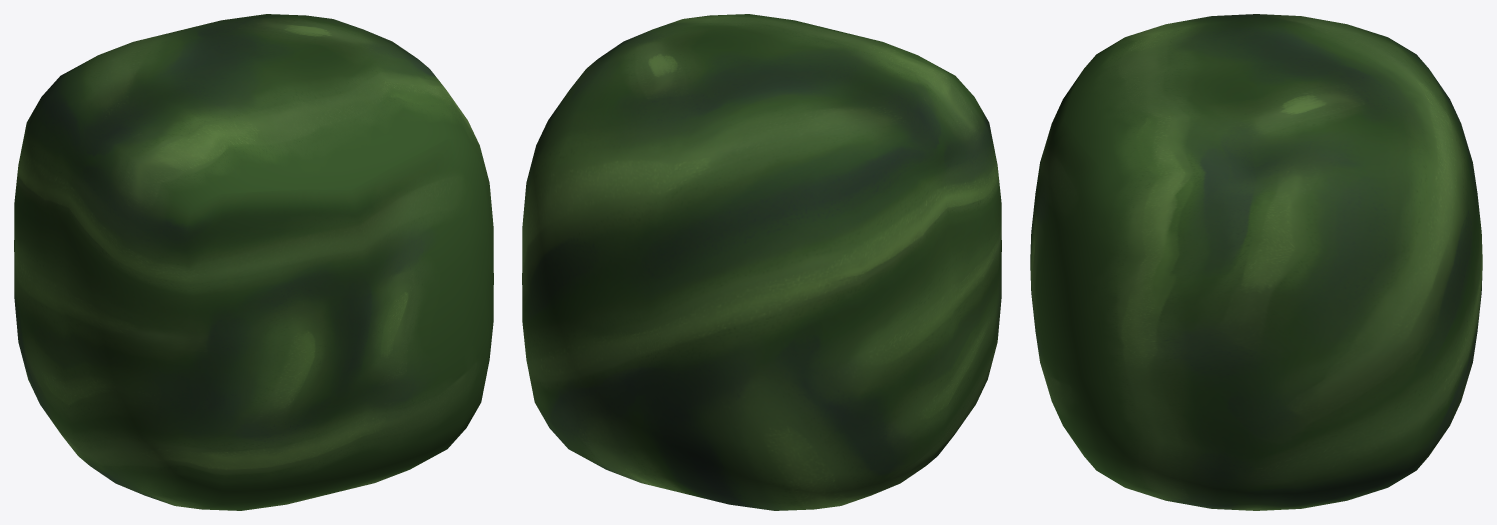
Rendered from MineBeamTie.fbx.
3 views of the same model, side by side, from view 1: azimuth 30°, elevation 25°; view 2: azimuth 150°, elevation 25°; view 3: azimuth 270°, elevation 25° (orthographic).
Parts seen in each view (by area): view 1: MineBeamTie; view 2: MineBeamTie; view 3: MineBeamTie.
Part boxes in pixels (left/top/right/bottom): MineBeamTie: left=14, top=14, right=493, bottom=510; MineBeamTie: left=522, top=14, right=1001, bottom=510; MineBeamTie: left=1030, top=14, right=1482, bottom=510.
Bounding box in the file's own units: 42.24 × 42.62 × 43.82.
1 material, 1 textured.
